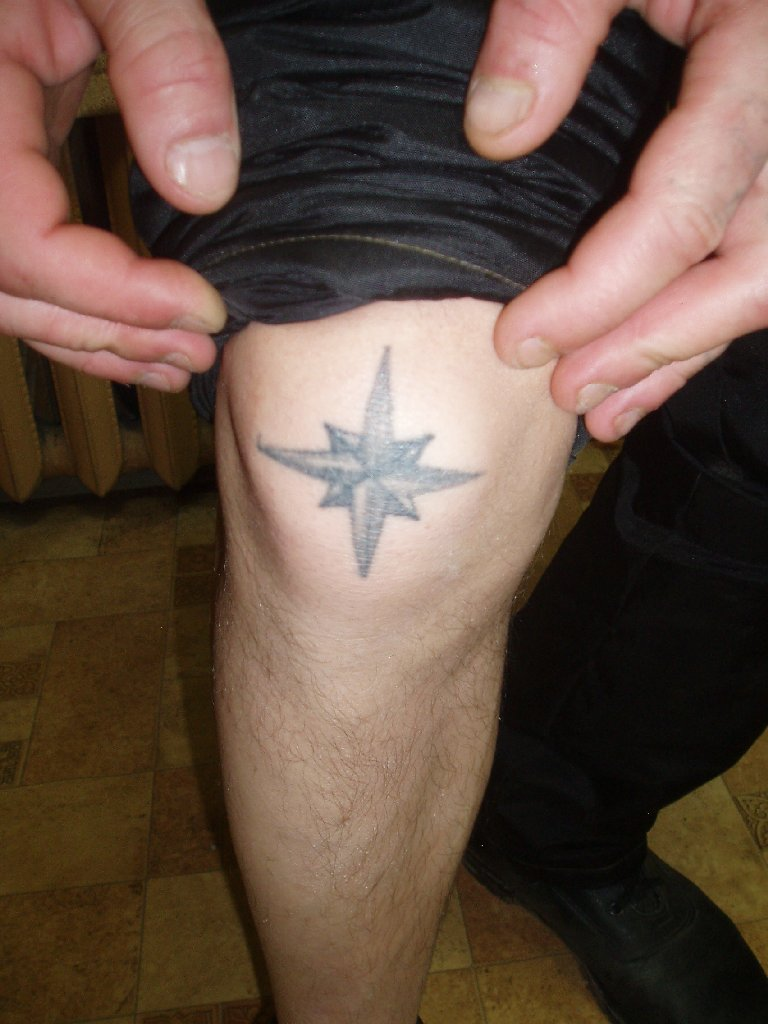tatu4_zvezda: (259, 345, 488, 578)
